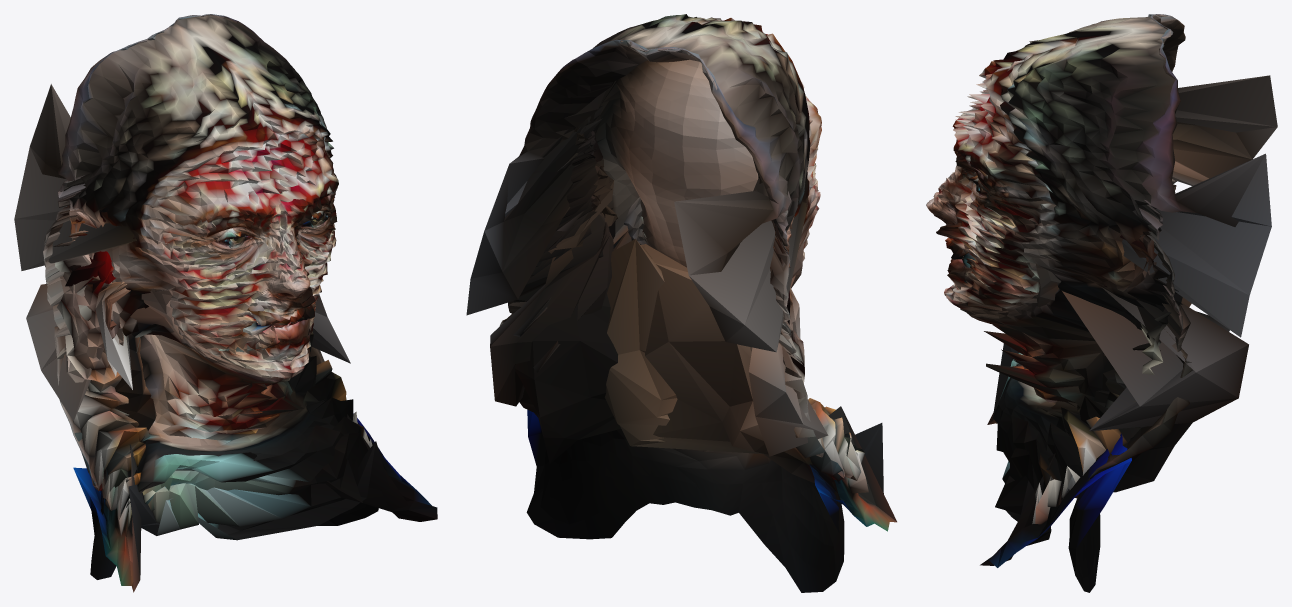
Rendered from young_european_f_textured_mesh.obj.
3 renders of one model, left to right at view 1: azimuth 30°, elevation 25°; view 2: azimuth 150°, elevation 25°; view 3: azimuth 270°, elevation 25°, orthographic. The views are drawn at different scales.
Bounding box in the file's own units: 0.2435 × 0.3825 × 0.244.
